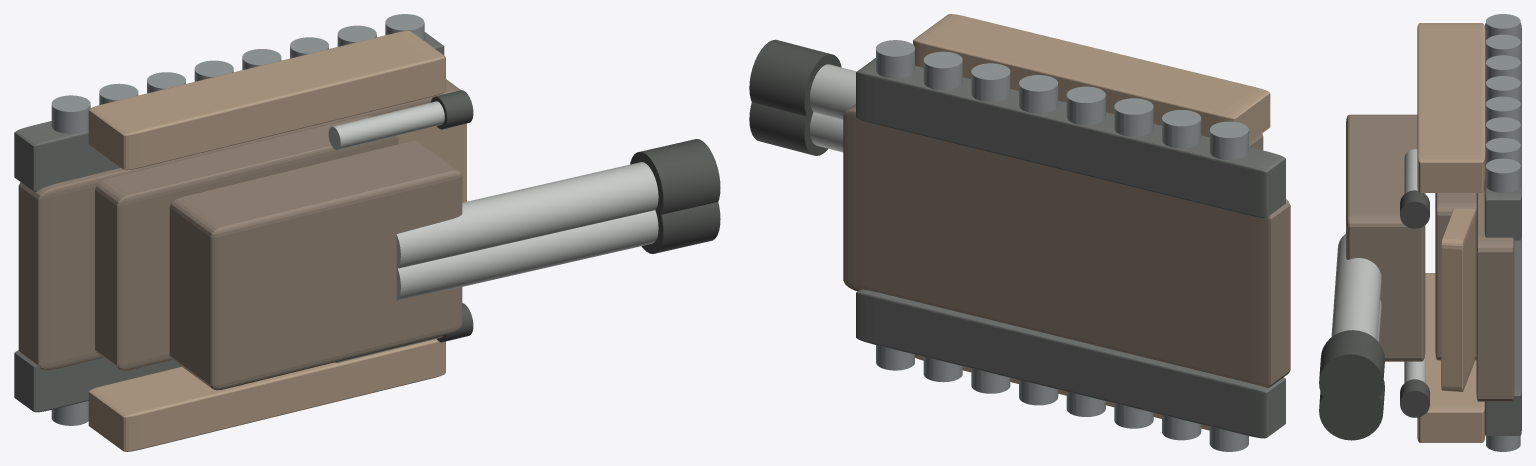
The model's file is d-u20-dominion-super-heavy-lod1.glb.
The picture shows the model from 3 angles, left to right: view 1: azimuth 30°, elevation 25°; view 2: azimuth 150°, elevation 25°; view 3: azimuth 270°, elevation 25°; orthographic projection. The views are drawn at different scales.
Parts seen in each view (by area): view 1: superheavy_turret, armor_belt_1, upper_hull, armor_belt_-1, chassis_lower, superheavy_main_barrel_1, superheavy_main_barrel_0, chassis_track_1, chassis_track_-1, superheavy_main_muzzle_1, sponson_1_barrel_0, superheavy_main_muzzle_0 (+5 smaller); view 2: chassis_lower, chassis_track_1, chassis_track_-1, armor_belt_1, superheavy_main_muzzle_1, superheavy_main_muzzle_0, superheavy_main_barrel_1, chassis_roadwheel_1_6, chassis_roadwheel_1_2, chassis_roadwheel_1_5, chassis_roadwheel_1_0, chassis_roadwheel_1_3 (+12 smaller); view 3: superheavy_turret, armor_belt_1, chassis_lower, chassis_glacis, armor_belt_-1, superheavy_main_muzzle_1, superheavy_main_barrel_1, superheavy_main_muzzle_0, chassis_track_-1, chassis_track_1, upper_hull, chassis_roadwheel_1_7 (+12 smaller).
Part boxes in pixels (<box>): superheavy_turret: <box>169,141,462,390</box>; armor_belt_1: <box>88,31,445,170</box>; upper_hull: <box>95,116,398,370</box>; armor_belt_-1: <box>88,339,445,451</box>; chassis_lower: <box>18,79,460,369</box>; superheavy_main_barrel_1: <box>396,162,658,268</box>; superheavy_main_barrel_0: <box>396,210,658,300</box>; chassis_track_1: <box>14,32,444,191</box>; chassis_track_-1: <box>14,350,181,412</box>; superheavy_main_muzzle_1: <box>630,139,720,219</box>; sponson_1_barrel_0: <box>328,101,444,150</box>; superheavy_main_muzzle_0: <box>641,202,720,253</box>; chassis_lower: <box>843,104,1290,387</box>; chassis_track_1: <box>856,58,1285,217</box>; chassis_track_-1: <box>856,289,1285,438</box>; armor_belt_1: <box>913,14,1270,142</box>; superheavy_main_muzzle_1: <box>749,39,841,121</box>; superheavy_main_muzzle_0: <box>749,102,828,155</box>; superheavy_main_barrel_1: <box>810,64,856,119</box>; chassis_roadwheel_1_6: <box>923,51,962,90</box>; chassis_roadwheel_1_2: <box>1114,98,1153,136</box>; chassis_roadwheel_1_5: <box>971,63,1010,101</box>; chassis_roadwheel_1_0: <box>1209,121,1248,159</box>; chassis_roadwheel_1_3: <box>1066,86,1105,124</box>; superheavy_turret: <box>1346,114,1425,361</box>; armor_belt_1: <box>1417,23,1485,192</box>; chassis_lower: <box>1476,191,1514,401</box>; chassis_glacis: <box>1441,209,1475,391</box>; armor_belt_-1: <box>1417,273,1485,442</box>; superheavy_main_muzzle_1: <box>1319,330,1384,412</box>; superheavy_main_barrel_1: <box>1331,234,1381,340</box>; superheavy_main_muzzle_0: <box>1319,380,1384,440</box>; chassis_track_-1: <box>1484,235,1521,435</box>; chassis_track_1: <box>1484,23,1521,240</box>; upper_hull: <box>1435,193,1476,360</box>; chassis_roadwheel_1_7: <box>1486,158,1520,192</box>.
Size of what is drawn, in the model's own units: 13.52 by 6.94 by 4.5.
